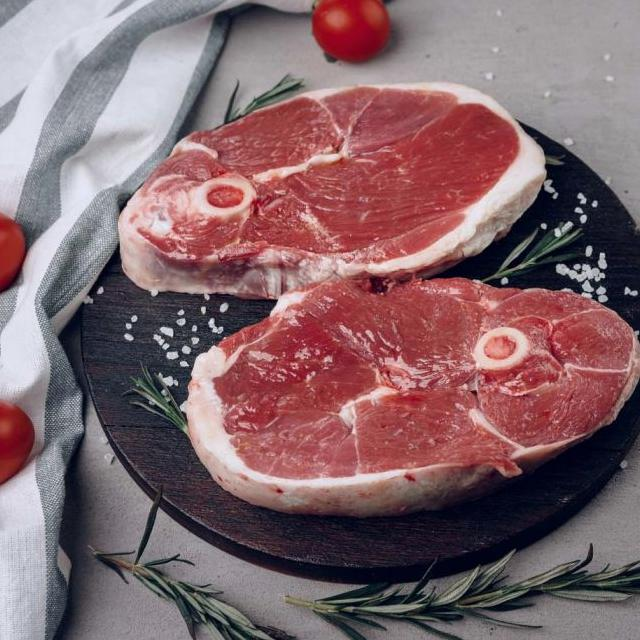beef: (185, 269, 635, 509), (118, 84, 559, 290)
tomato: (296, 0, 399, 70), (0, 387, 43, 508), (0, 198, 27, 303)
